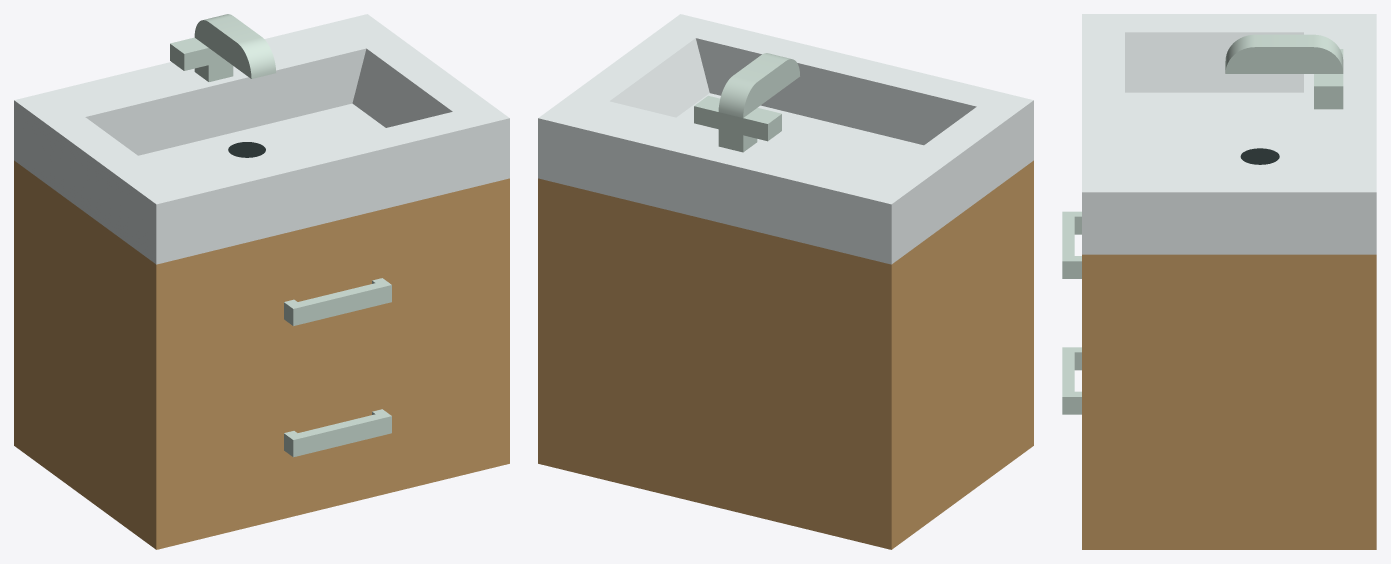
File: kitchenCabinetDrawer.glb
3 renders of one model, left to right at view 1: azimuth 30°, elevation 25°; view 2: azimuth 150°, elevation 25°; view 3: azimuth 270°, elevation 25°, orthographic. The views are drawn at different scales.
Visible parts, largest first — view 1: kitchenCabinetDrawer, drawerBottom, drawerTop; view 2: kitchenCabinetDrawer; view 3: kitchenCabinetDrawer, drawerBottom, drawerTop.
Part boxes in pixels (x1=…): kitchenCabinetDrawer: x1=14, y1=14, x2=509, y2=549; drawerBottom: x1=178, y1=338, x2=487, y2=521; drawerTop: x1=178, y1=207, x2=487, y2=389; kitchenCabinetDrawer: x1=538, y1=14, x2=1033, y2=549; kitchenCabinetDrawer: x1=1082, y1=14, x2=1376, y2=549; drawerBottom: x1=1062, y1=347, x2=1081, y2=414; drawerTop: x1=1062, y1=211, x2=1081, y2=278.
Size of the model in its own units: 0.774 by 0.8492 by 0.576.
